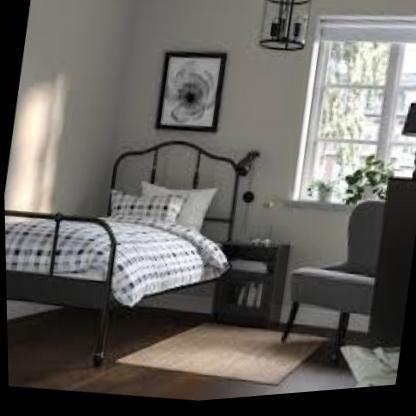Bed: (2, 110, 247, 388)
Nightstand: (212, 237, 290, 334)
Window: (279, 1, 416, 232)
